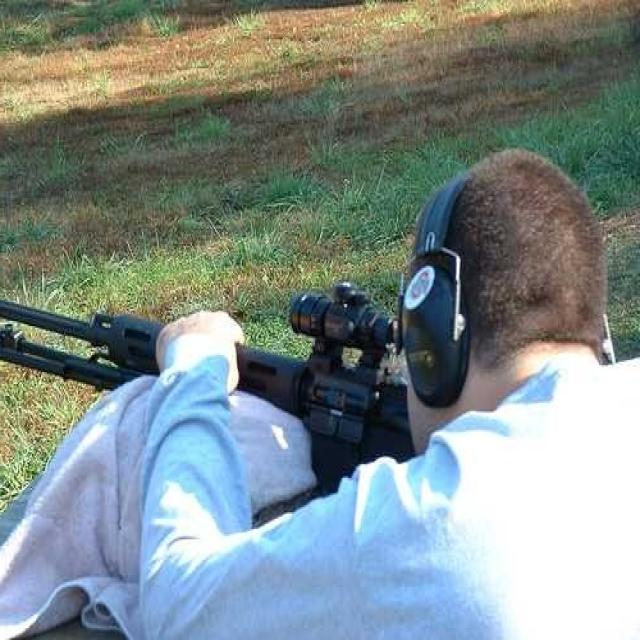heavyweapon: (1, 252, 457, 474)
